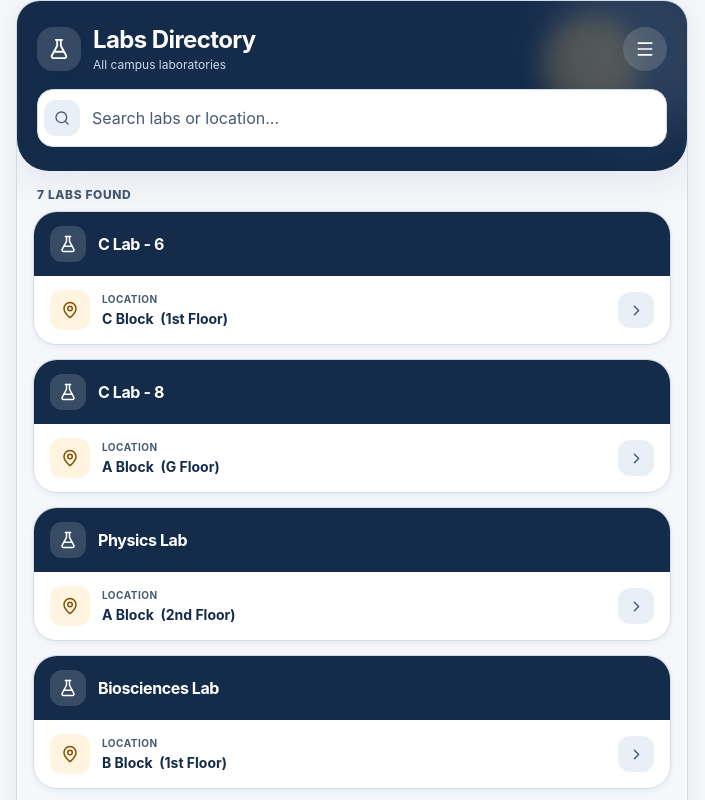
Test: LabsDirectoryBrowser › filters labs by search query and block menu options, and clears filters
This screenshot has width=705, height=800.
Type "Physics" into the field with placeholder "Search labs or location..." at (374, 118), box [88, 96, 660, 140]
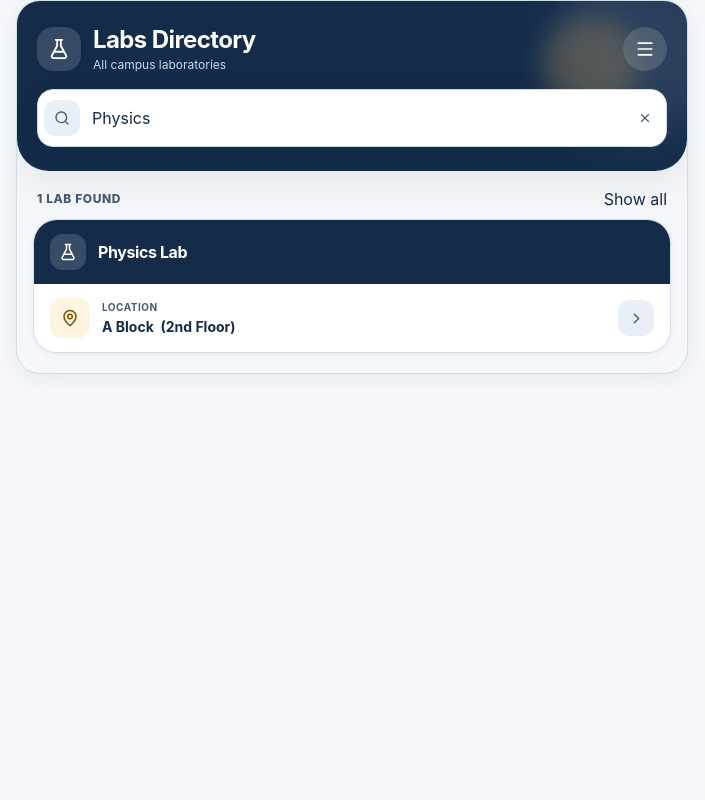
Expected: the button "Physics Lab LOCATION A Block (2nd Floor)" is shown, [33, 219, 671, 353]
Expected: the text "1 LAB FOUND" is shown, [37, 191, 121, 207]
Click the button named "Clear lab search" at (645, 118), box [634, 107, 656, 129]
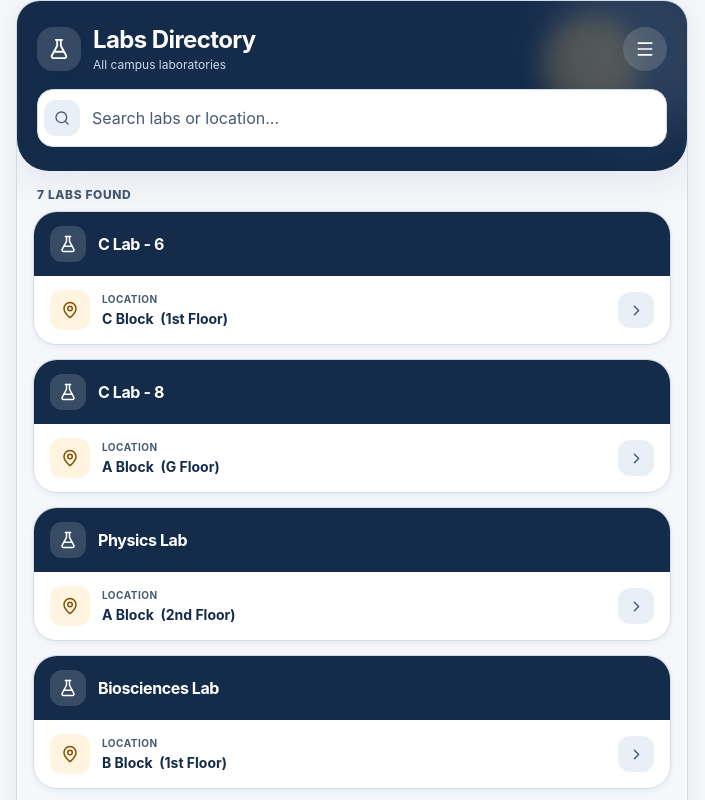
Expected: the text "7 LABS FOUND" is shown, [37, 187, 131, 203]
// Open block filter menu
Click the button named "Filter labs by block" at (645, 49), box [623, 27, 667, 71]
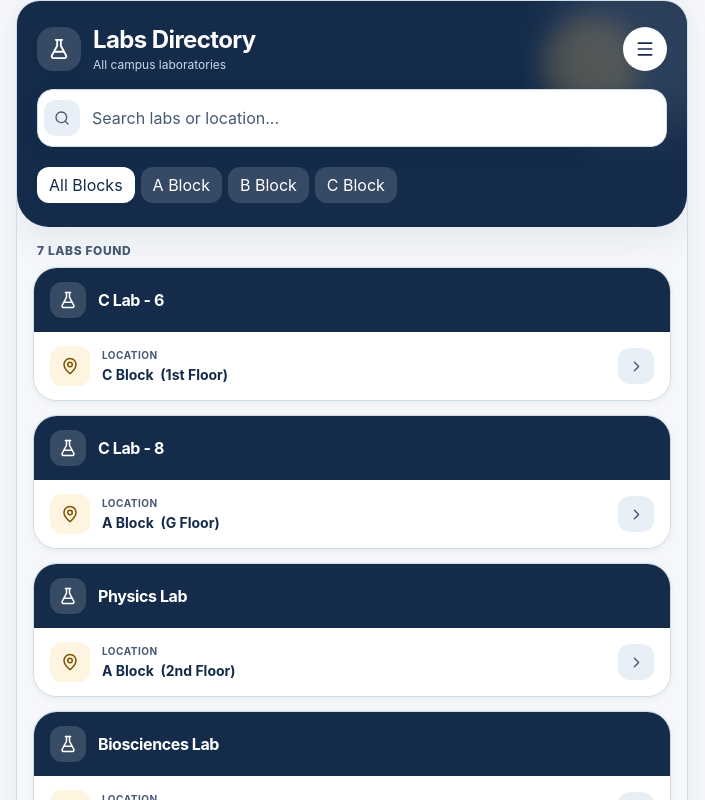
Click the button "B Block" at (268, 185), box [228, 167, 309, 203]
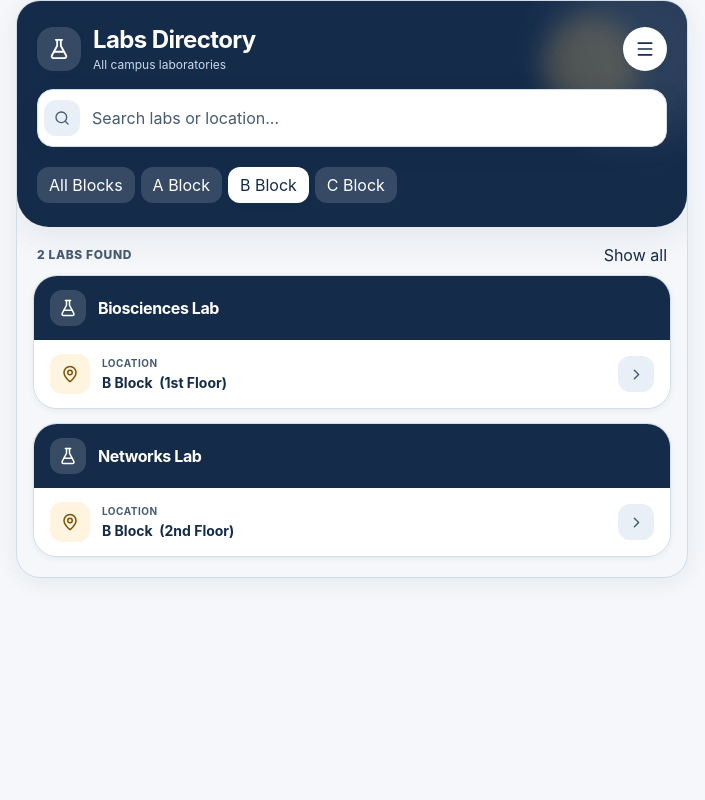
Expected: the button "Biosciences Lab LOCATION B Block (1st Floor)" is shown, [33, 275, 671, 409]
Expected: the text "2 LABS FOUND" is shown, [37, 247, 132, 263]
